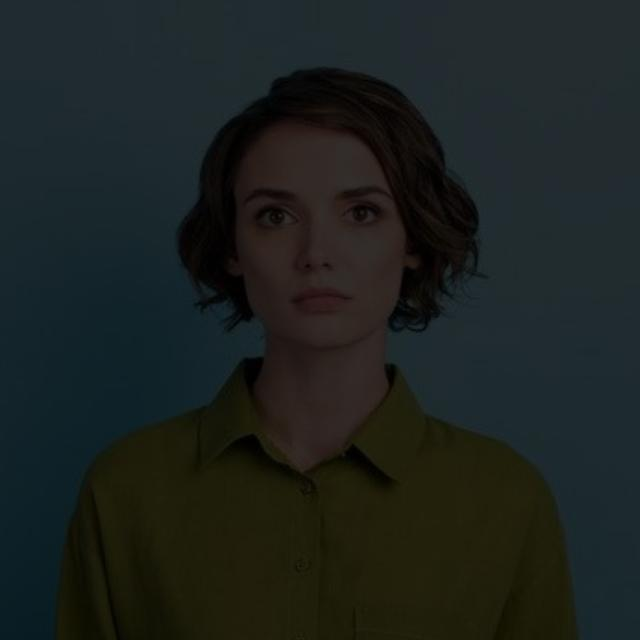Natural: (116, 103, 464, 364)
